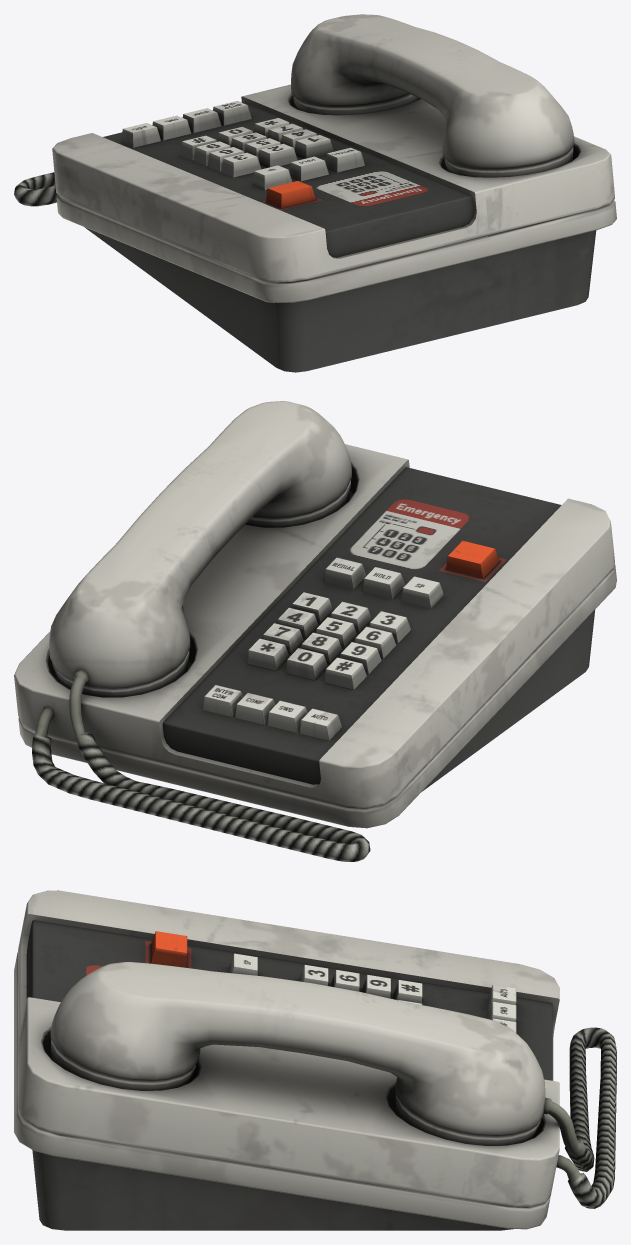
Rendered from office_phone-D_cTa_Nu.glb.
3 views of the same model, one above another, from view 1: azimuth 30°, elevation 25°; view 2: azimuth 150°, elevation 25°; view 3: azimuth 270°, elevation 25° (orthographic). The views are drawn at different scales.
Visible parts, largest first — view 1: phone_a; view 2: phone_a; view 3: phone_a.
Boxes of the visible parts, left/top/right/bottom form: phone_a: left=14, top=14, right=616, bottom=372; phone_a: left=14, top=401, right=616, bottom=861; phone_a: left=14, top=890, right=616, bottom=1230.
Bounding box in the file's own units: 12.28 × 6.53 × 15.68.
Materials: 1 (1 with a texture image).
